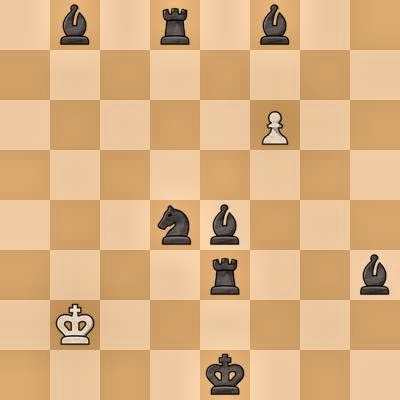black-bishop: (50, 0, 100, 50), (250, 0, 300, 50), (200, 200, 250, 250), (350, 250, 400, 300)
black-king: (200, 350, 250, 400)
black-knight: (150, 200, 200, 250)
black-rook: (150, 0, 200, 50), (200, 250, 250, 300)
white-king: (50, 300, 100, 350)
white-pawn: (250, 100, 300, 150)
